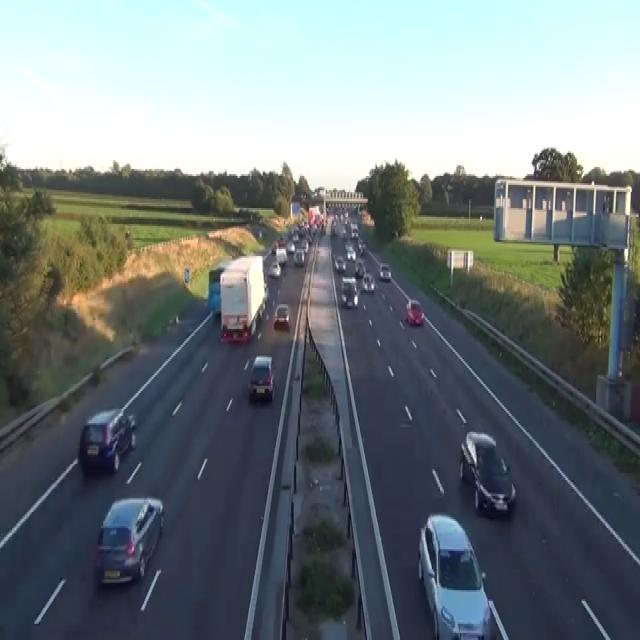Car: (417, 512, 491, 638), (93, 496, 164, 587), (459, 430, 516, 518), (78, 407, 136, 473), (459, 430, 496, 484), (247, 354, 275, 402), (340, 276, 358, 308), (405, 299, 424, 325), (273, 304, 290, 329), (362, 272, 374, 292), (268, 260, 281, 278), (379, 263, 391, 281), (334, 254, 346, 272), (275, 247, 287, 265), (354, 258, 365, 277), (293, 249, 304, 267), (263, 279, 269, 308), (346, 247, 356, 261), (357, 238, 365, 254), (350, 224, 359, 238), (286, 240, 295, 252), (300, 238, 308, 251), (330, 220, 336, 234), (271, 242, 278, 254), (340, 224, 346, 238), (278, 235, 285, 245), (292, 233, 299, 243), (258, 228, 262, 238), (125, 230, 130, 238)
Truck: (219, 254, 265, 343), (207, 265, 225, 315), (308, 204, 320, 226), (290, 201, 300, 217)
